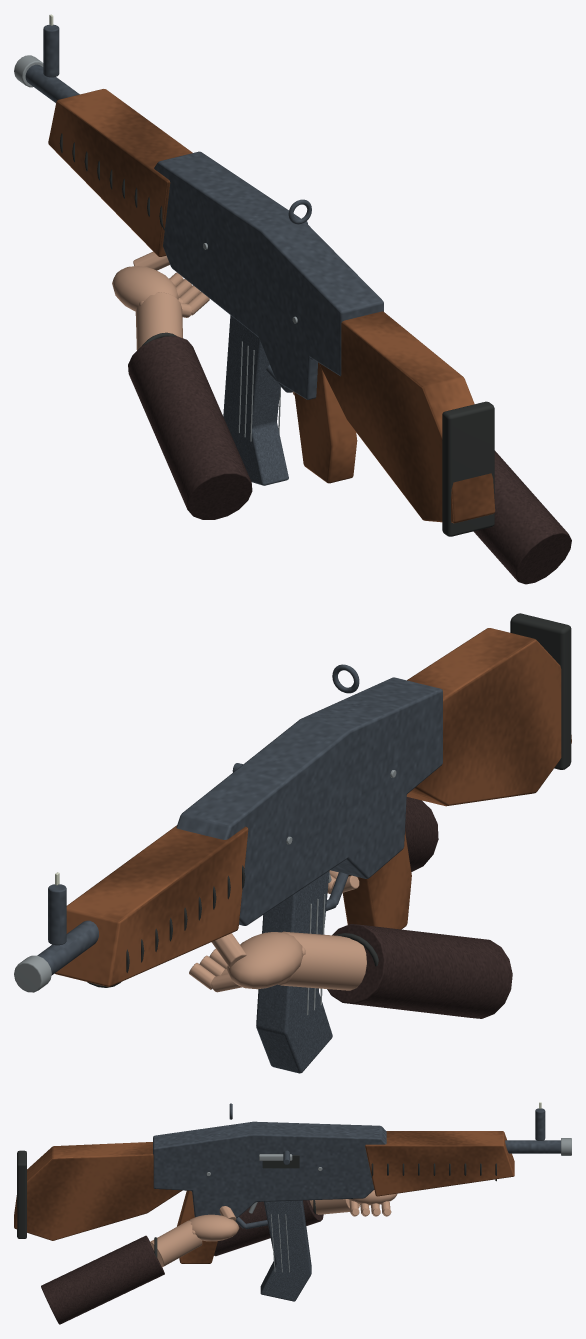
File: type56.glb
3 renders of one model, top to bottom at view 1: azimuth 30°, elevation 25°; view 2: azimuth 150°, elevation 25°; view 3: azimuth 270°, elevation 25°, orthographic. The views are drawn at different scales.
Parts seen in each view (by area): view 1: type56__BODY, type56__HAND_L, type56__MAGAZINE, type56__HAND_R; view 2: type56__BODY, type56__HAND_L, type56__MAGAZINE, type56__HAND_R; view 3: type56__BODY, type56__HAND_R, type56__MAGAZINE, type56__HAND_L.
Boxes of the visible parts, x1=… form: type56__BODY: x1=14, y1=14, x2=495, y2=536; type56__HAND_L: x1=112, y1=251, x2=252, y2=519; type56__MAGAZINE: x1=223, y1=315, x2=288, y2=485; type56__HAND_R: x1=292, y1=391, x2=571, y2=584; type56__BODY: x1=14, y1=613, x2=571, y2=992; type56__HAND_L: x1=189, y1=924, x2=512, y2=1018; type56__MAGAZINE: x1=256, y1=871, x2=332, y2=1073; type56__HAND_R: x1=327, y1=797, x2=438, y2=893; type56__BODY: x1=14, y1=1102, x2=571, y2=1263; type56__HAND_R: x1=41, y1=1206, x2=239, y2=1324; type56__MAGAZINE: x1=260, y1=1200, x2=311, y2=1301; type56__HAND_L: x1=214, y1=1190, x2=397, y2=1256.
Size of the model in its own units: 0.3294 by 0.3873 by 1.
Materials: 7 (3 with a texture image).
